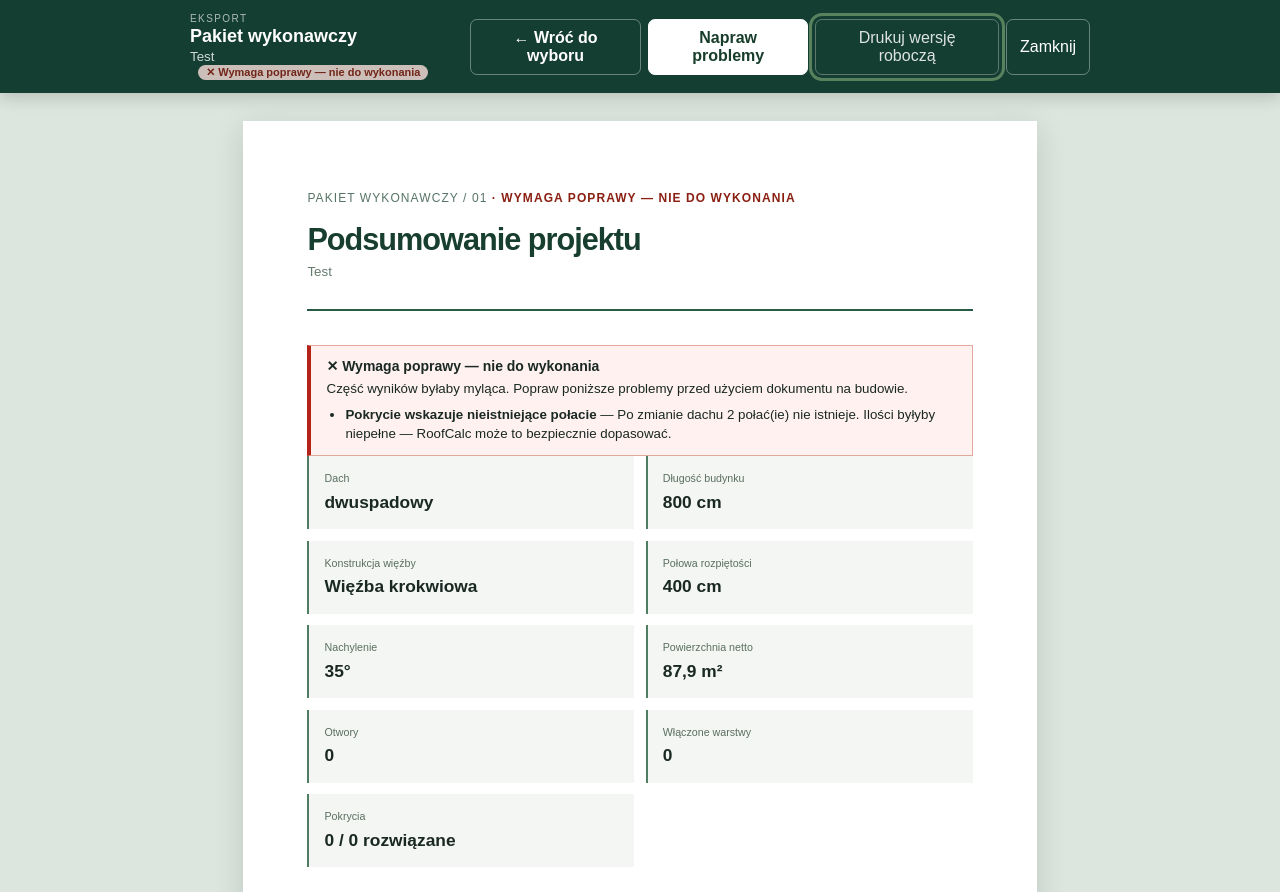
V47 document status and print gating › a blocker replaces the main print action with a direct fix and marks every page
Click the button with test id "document-fix-problems" at (728, 46), box [648, 18, 808, 74]
(page scrolled)
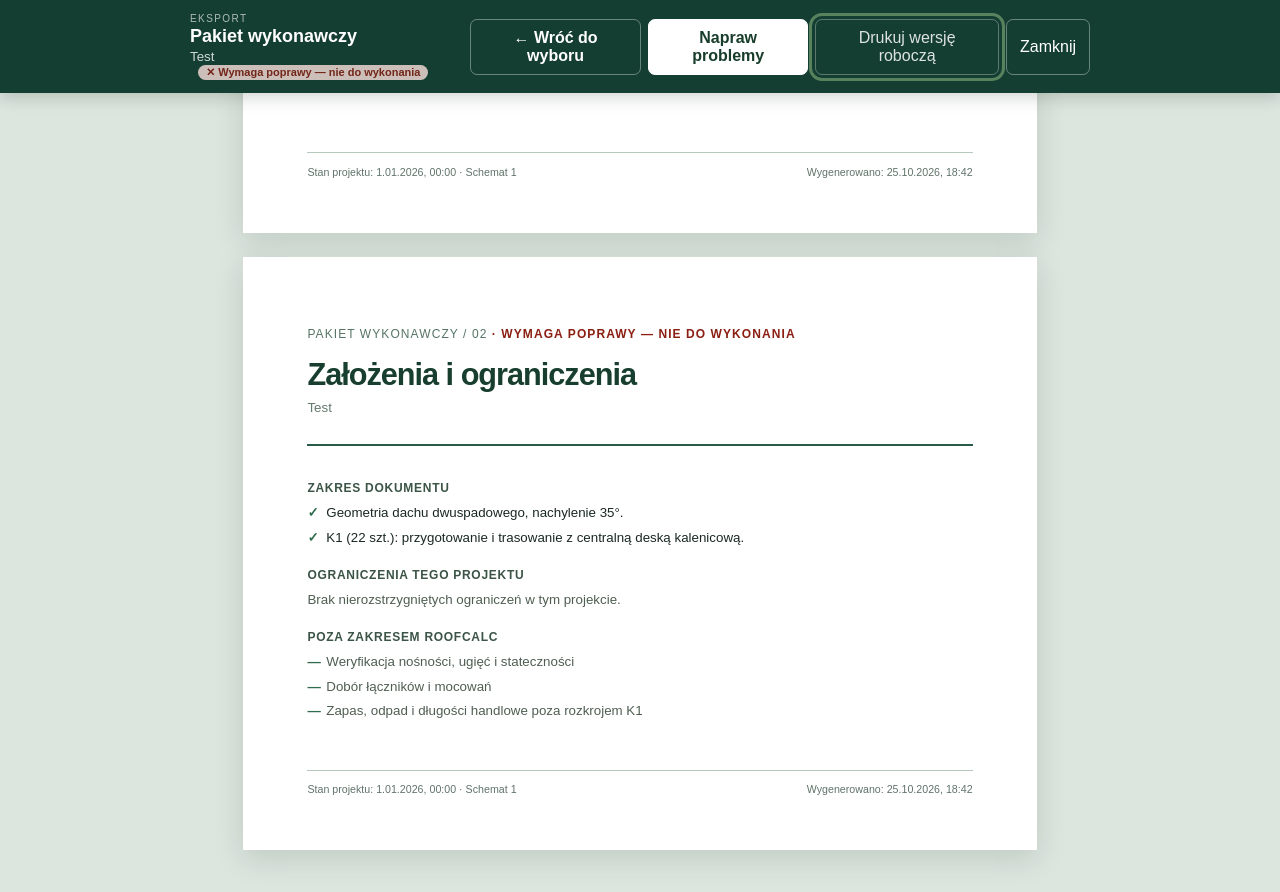
Expected: the button with test id "execution-print" reads "Drukuj wersję roboczą", [815, 18, 999, 74]
Result: the element with class "doc-page" shows "Wymaga poprawy" at [501, 326, 796, 340]
